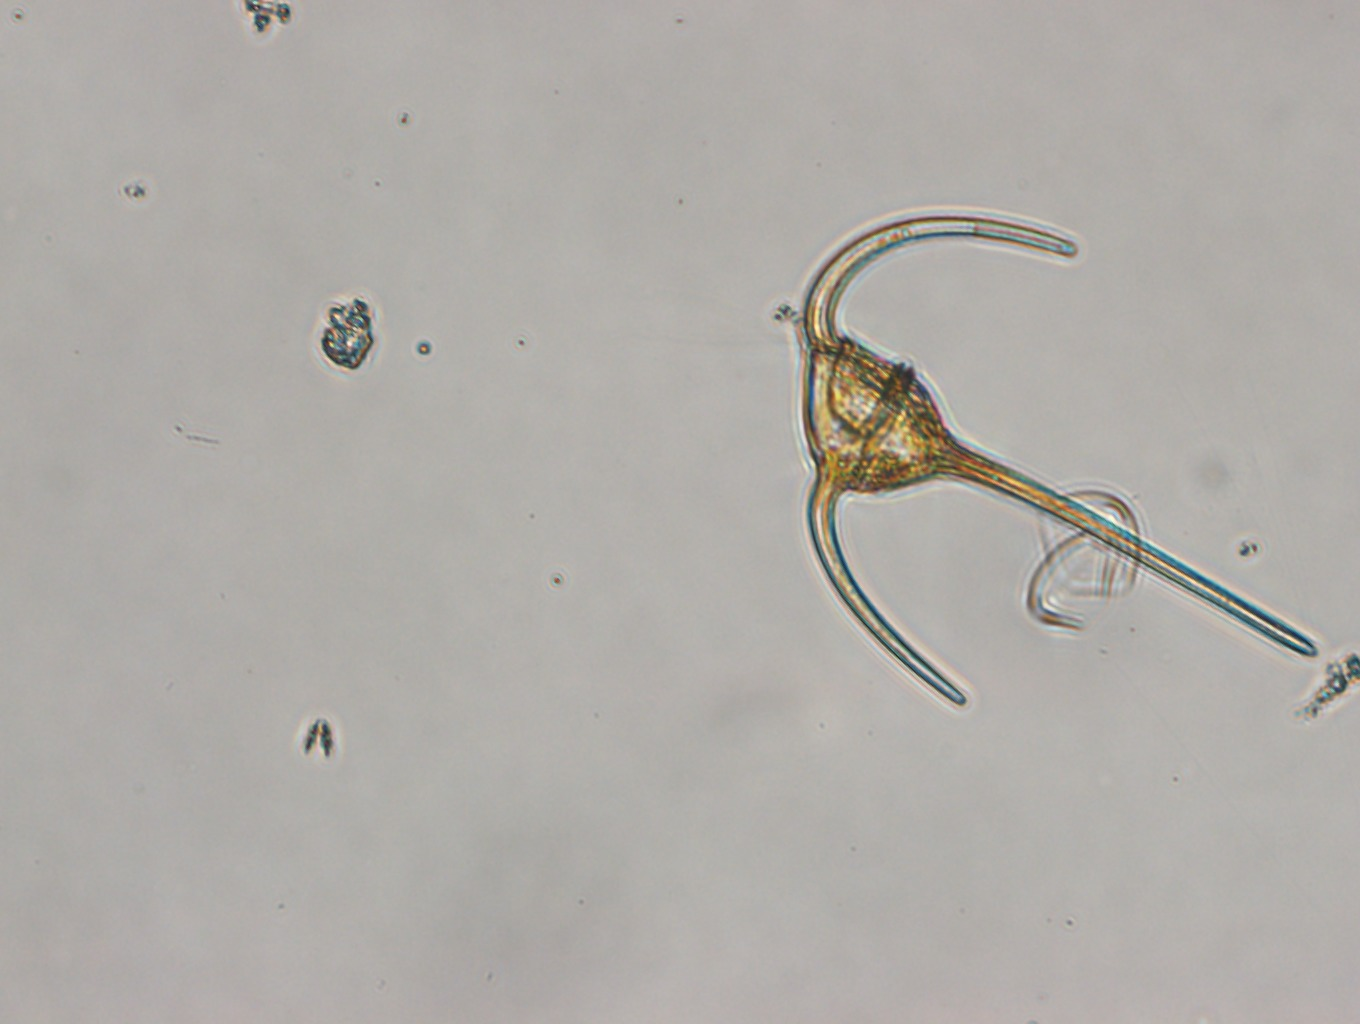ceratium trichoceros: (799, 210, 1320, 708)
